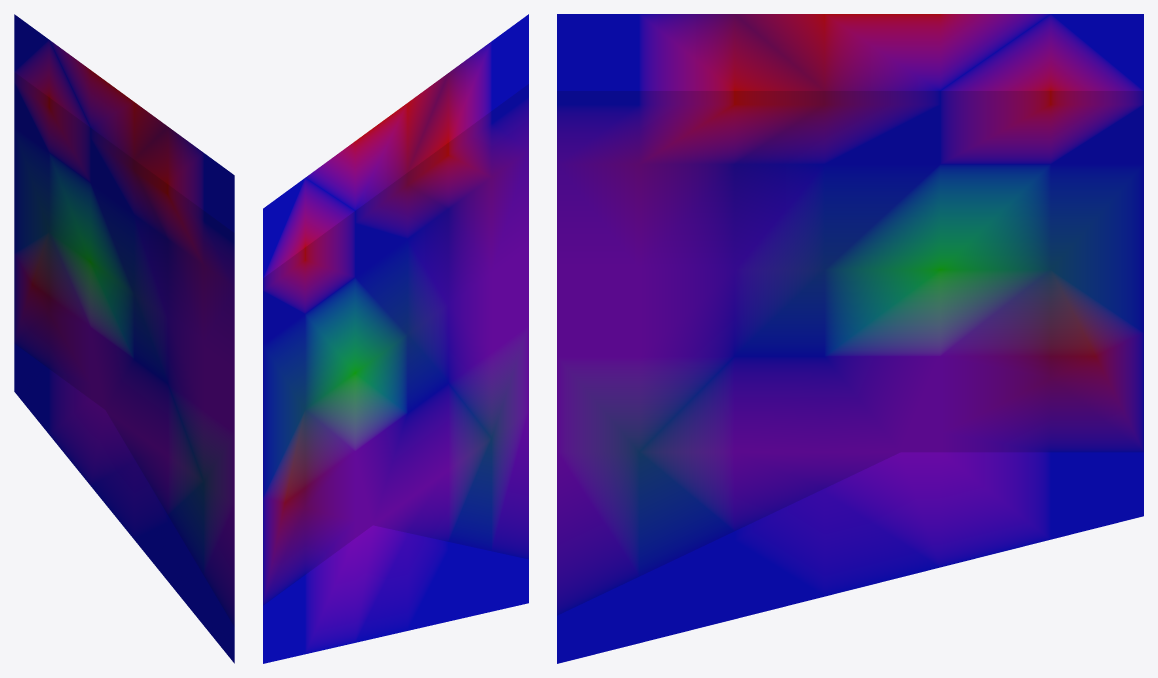
The picture shows the model from 3 angles, left to right: view 1: azimuth 30°, elevation 25°; view 2: azimuth 150°, elevation 25°; view 3: azimuth 270°, elevation 25°; orthographic projection. The views are drawn at different scales.
Parts seen in each view (by area): view 1: SM_Platform_BackWall_01_LOD0; view 2: SM_Platform_BackWall_01_LOD0; view 3: SM_Platform_BackWall_01_LOD0.
Part boxes in pixels (x1,y1,x2,y2): SM_Platform_BackWall_01_LOD0: (14,14,234,663); SM_Platform_BackWall_01_LOD0: (263,14,528,663); SM_Platform_BackWall_01_LOD0: (557,14,1143,663).
Size of the model in its own units: 0.000119 by 450 by 550.
